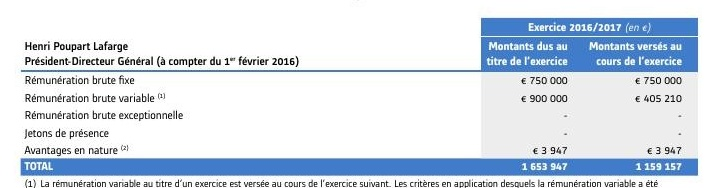table: (0, 0, 719, 188)
